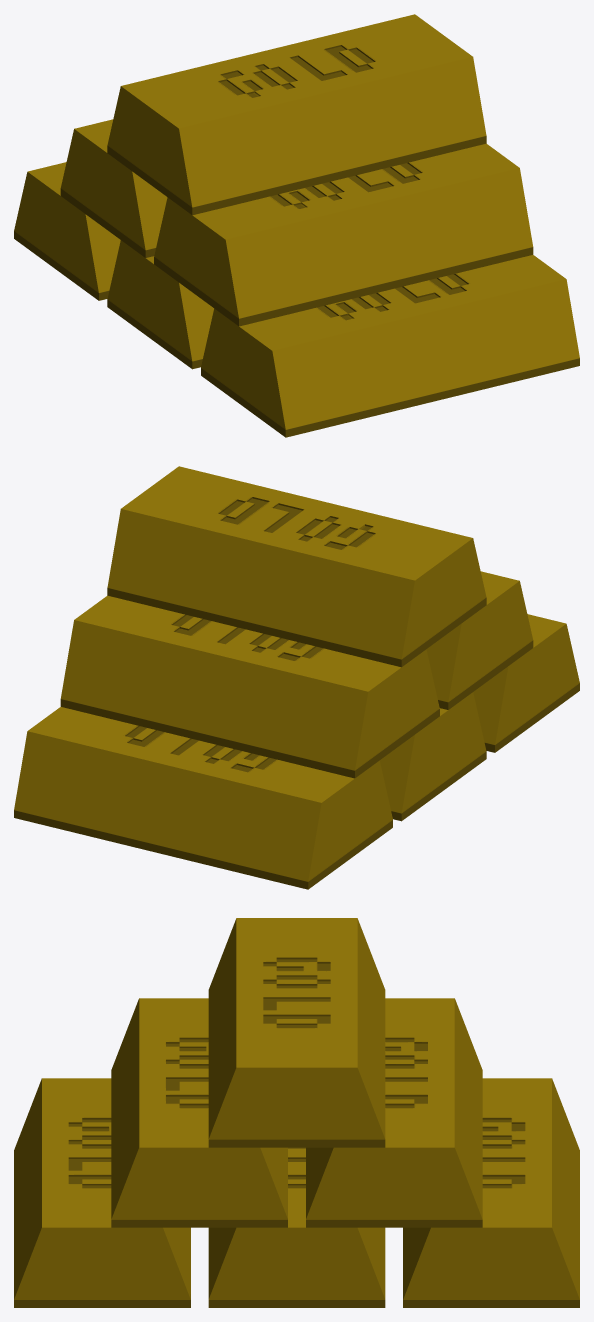
The model's file is Pila de lingotes.fbx.
3 views of the same model, one above another, from view 1: azimuth 30°, elevation 25°; view 2: azimuth 150°, elevation 25°; view 3: azimuth 270°, elevation 25° (orthographic). The views are drawn at different scales.
Visible parts, largest first — view 1: Cube; view 2: Cube; view 3: Cube.
Boxes of the visible parts, <box> form: Cube: <box>14,14,579,437</box>; Cube: <box>14,466,579,889</box>; Cube: <box>14,918,579,1307</box>.
Size of the model in its own units: 400 by 300 by 640.
Materials: 6 (6 with a texture image).
